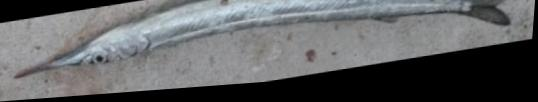fish: (17, 0, 523, 79)
